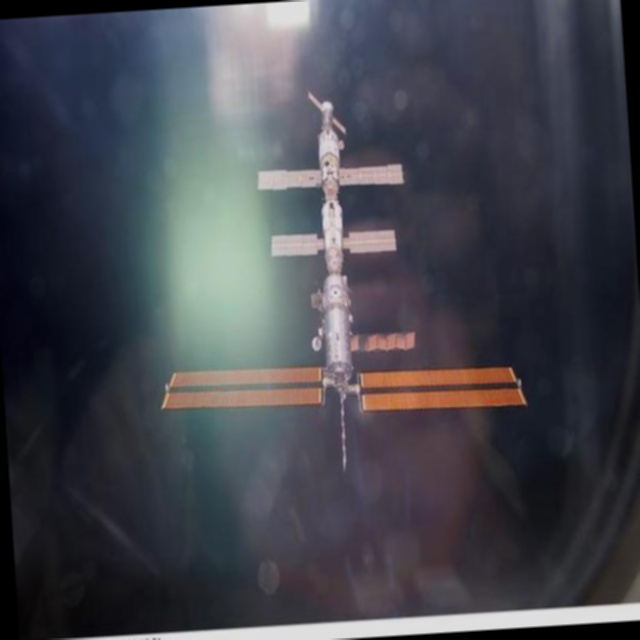satellite: (146, 76, 533, 481)
